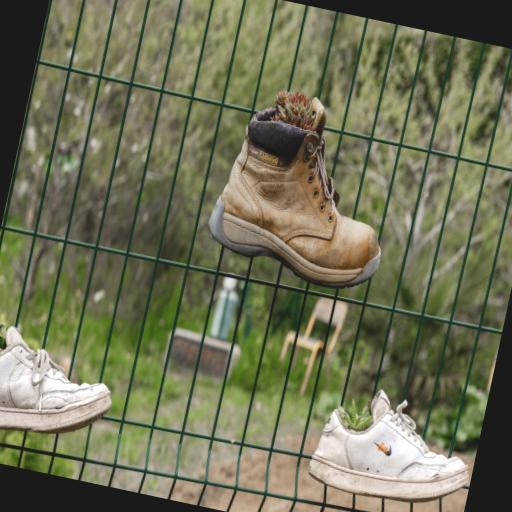shoe: (208, 98, 379, 287), (308, 390, 467, 502), (0, 327, 110, 433)
